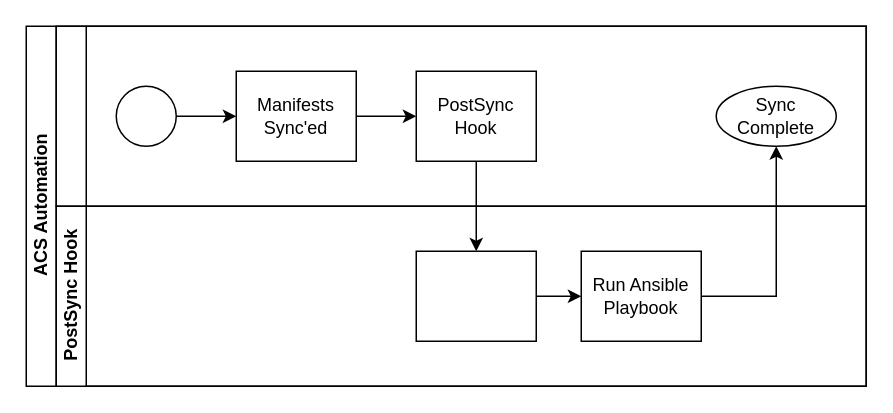
This 893x413 diagram has some shape labels left out. The shapes that lost their labels are listed below. From the top down, each one's box as (x1, y1, x2, y2) in pixels, then its label:
(115, 85, 176, 146): Sync
(55, 25, 866, 206): Argo CD
(415, 250, 536, 341): Clone acs-automation repo
